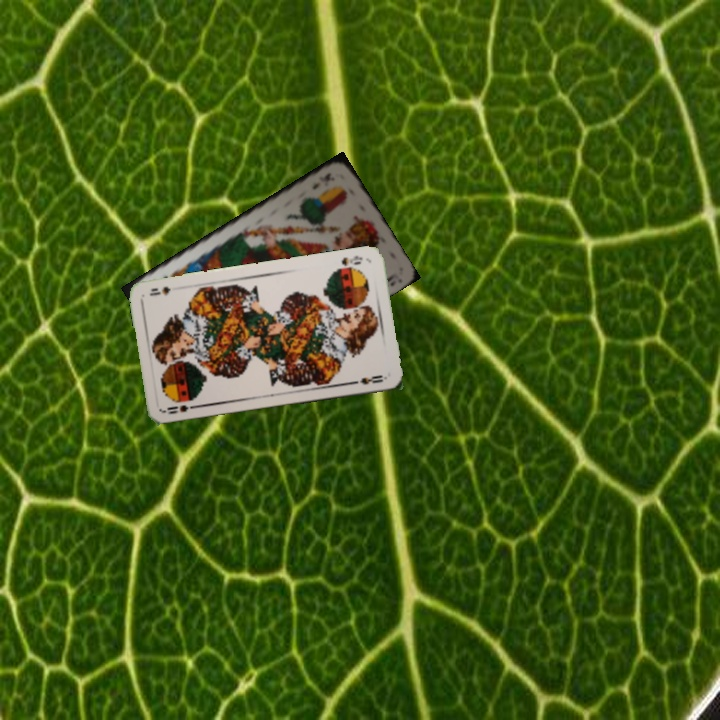EK: (308, 169, 334, 192)
SO: (330, 251, 365, 273), (161, 401, 201, 417)
